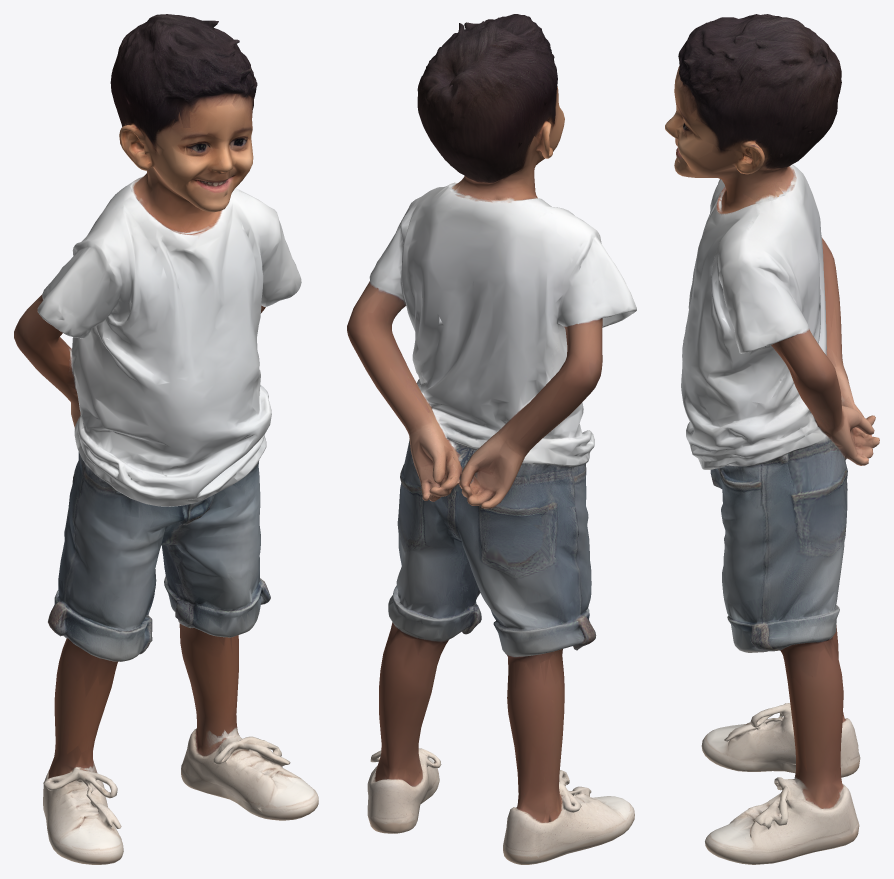
Rendered from SmilingBoy.glb.
3 renders of one model, left to right at view 1: azimuth 30°, elevation 25°; view 2: azimuth 150°, elevation 25°; view 3: azimuth 270°, elevation 25°, orthographic. The views are drawn at different scales.
Parts seen in each view (by area): view 1: SmilingBoy; view 2: SmilingBoy; view 3: SmilingBoy.
Part boxes in pixels (bbox=[...]): SmilingBoy: bbox=[14, 14, 318, 864]; SmilingBoy: bbox=[347, 14, 636, 864]; SmilingBoy: bbox=[665, 14, 879, 864].
Bounding box in the file's own units: 0.5935 × 1.7 × 0.4187.
1 material, 1 textured.
